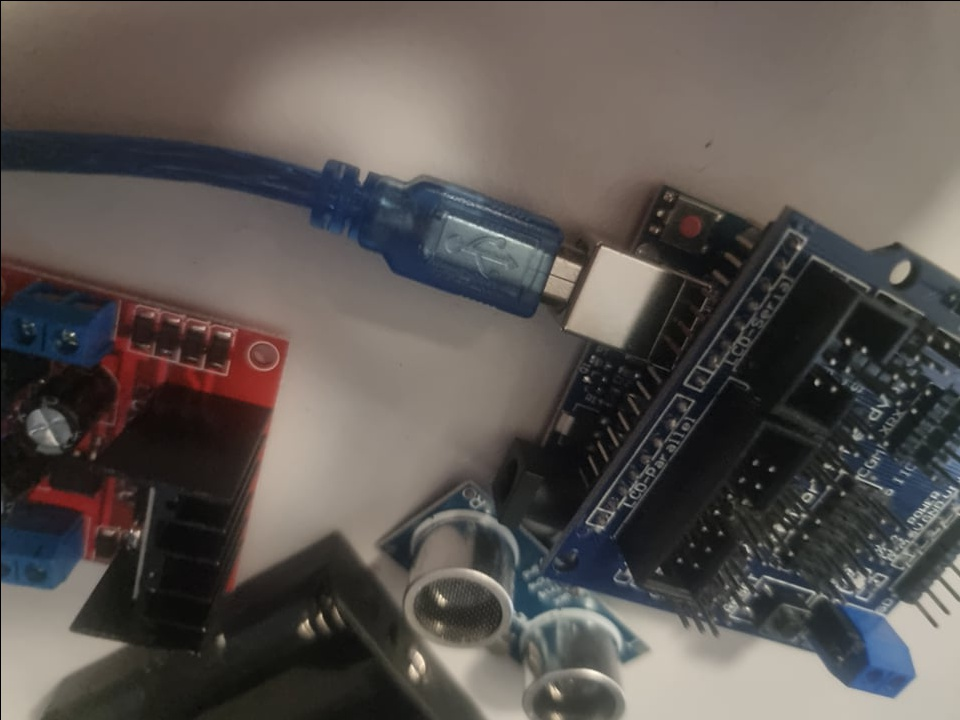5V EXPANSION: (538, 206, 959, 695)
MOTOR: (0, 264, 295, 656)
SENSOR: (376, 477, 648, 716)
UNO R3: (496, 173, 758, 524)
